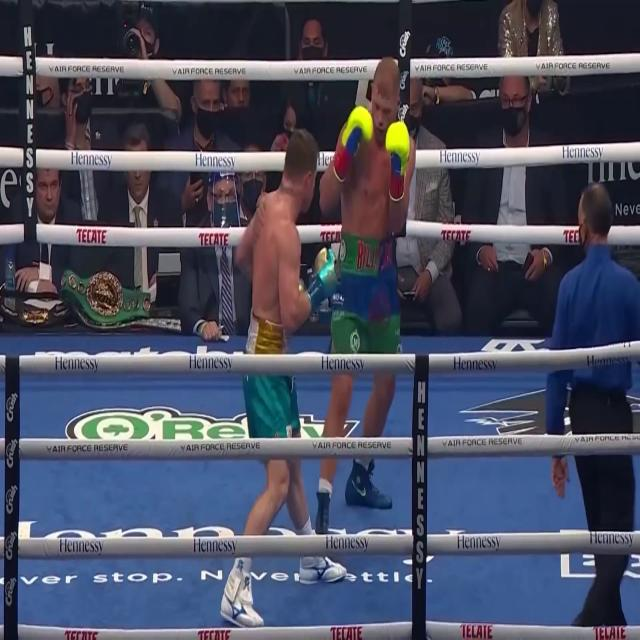boxer_1: (334, 56, 401, 277)
boxer_2: (242, 127, 317, 366)
gloves_1: (334, 104, 373, 180), (385, 119, 410, 201)
gloves_2: (308, 247, 338, 310)
